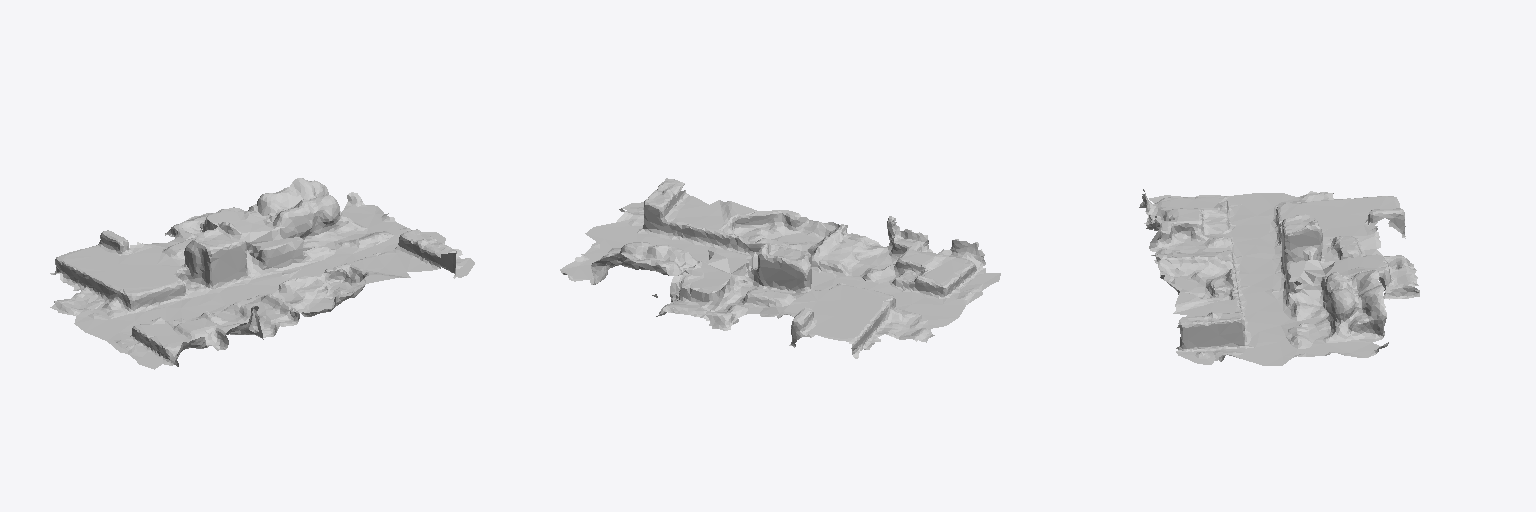
The model's file is bushwickForeground.obj.
3 views of the same model, side by side, from view 1: azimuth 30°, elevation 25°; view 2: azimuth 150°, elevation 25°; view 3: azimuth 270°, elevation 25° (orthographic).
Visible parts, largest first — view 1: Mesh; view 2: Mesh; view 3: Mesh.
Boxes of the visible parts, x1=… form: Mesh: x1=50, y1=178, x2=474, y2=369; Mesh: x1=560, y1=178, x2=1000, y2=358; Mesh: x1=1139, y1=189, x2=1419, y2=365.
Bounding box in the file's own units: 10.01 × 1.31 × 6.68.